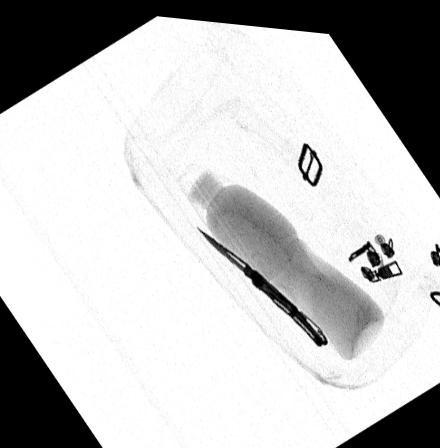Knife: (194, 220, 328, 339)
